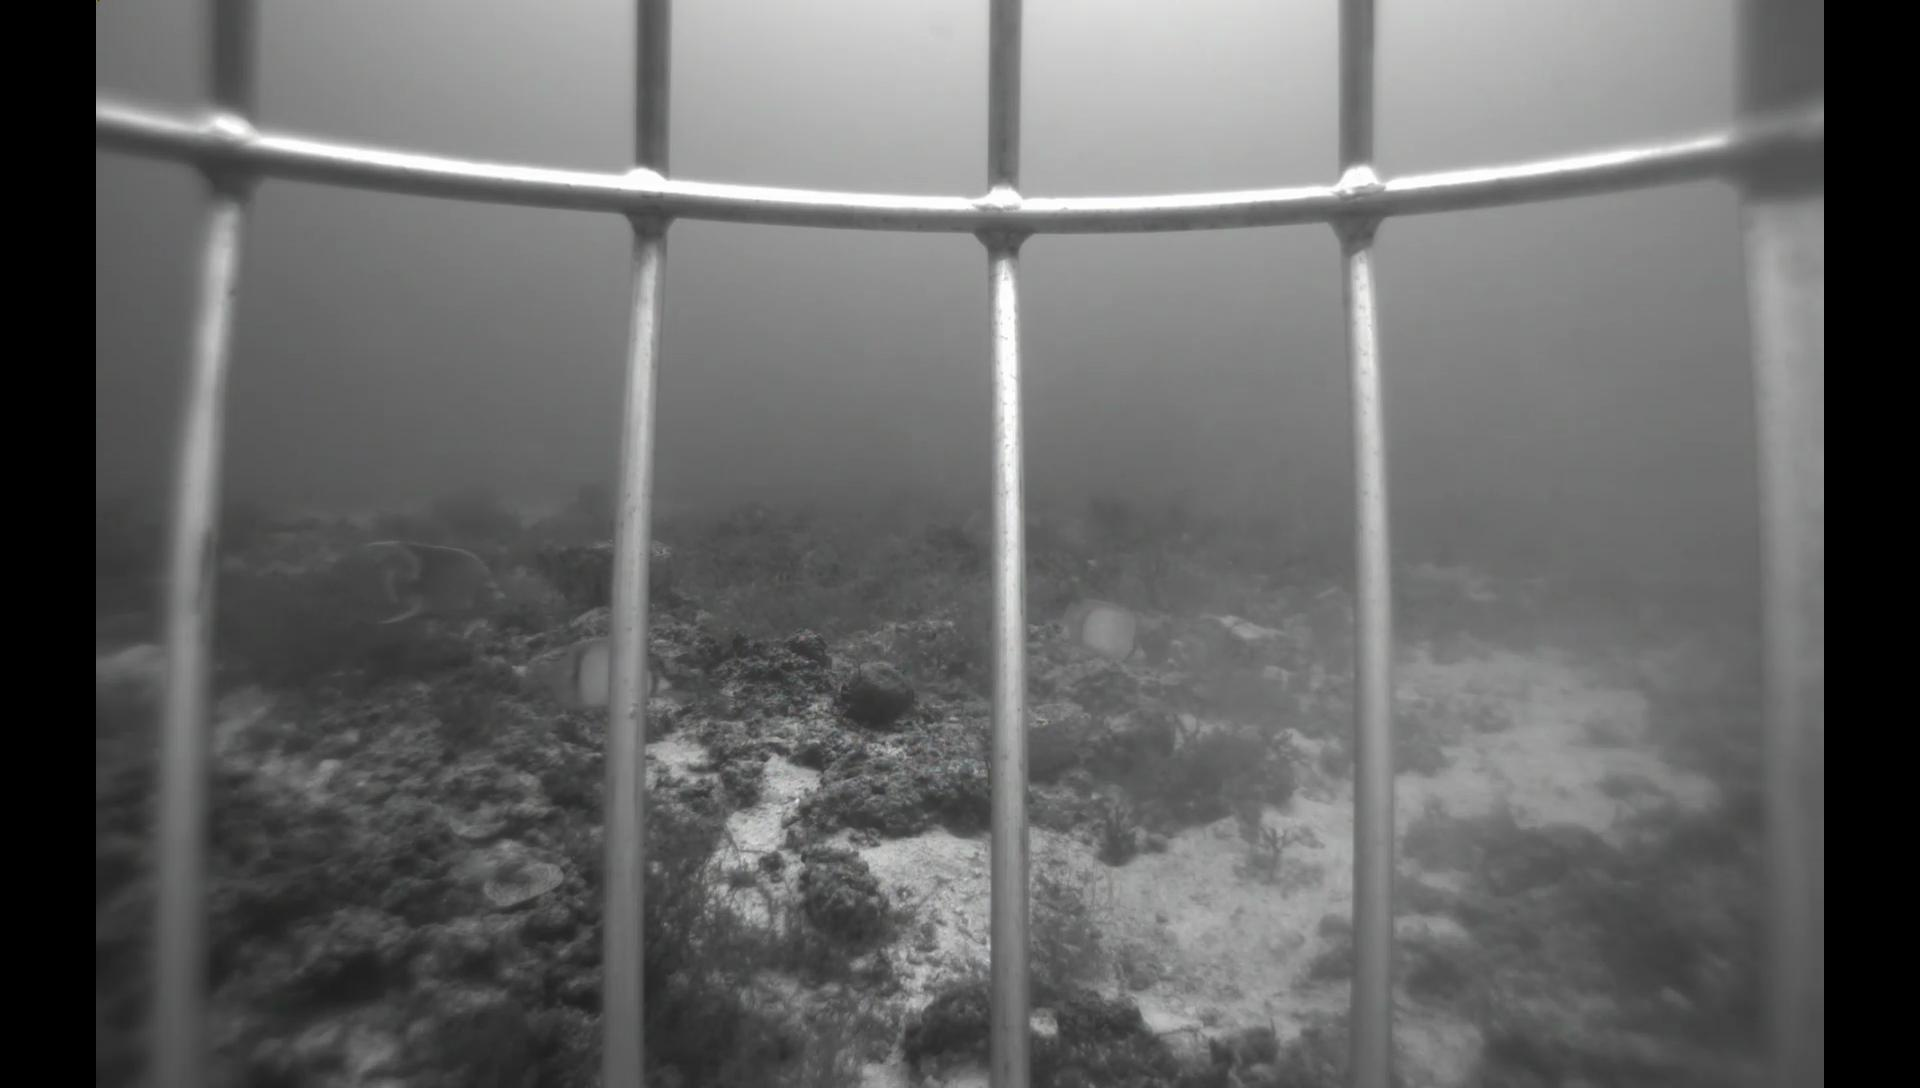CHAETODONOCELLATUS-170260307: (531, 634, 688, 727), (1051, 584, 1158, 673)
HOLACANTHUSBERMUDENSIS-170290102: (349, 521, 517, 644)
MYCTEROPERCAPHENAX-170022105: (943, 495, 992, 553)
